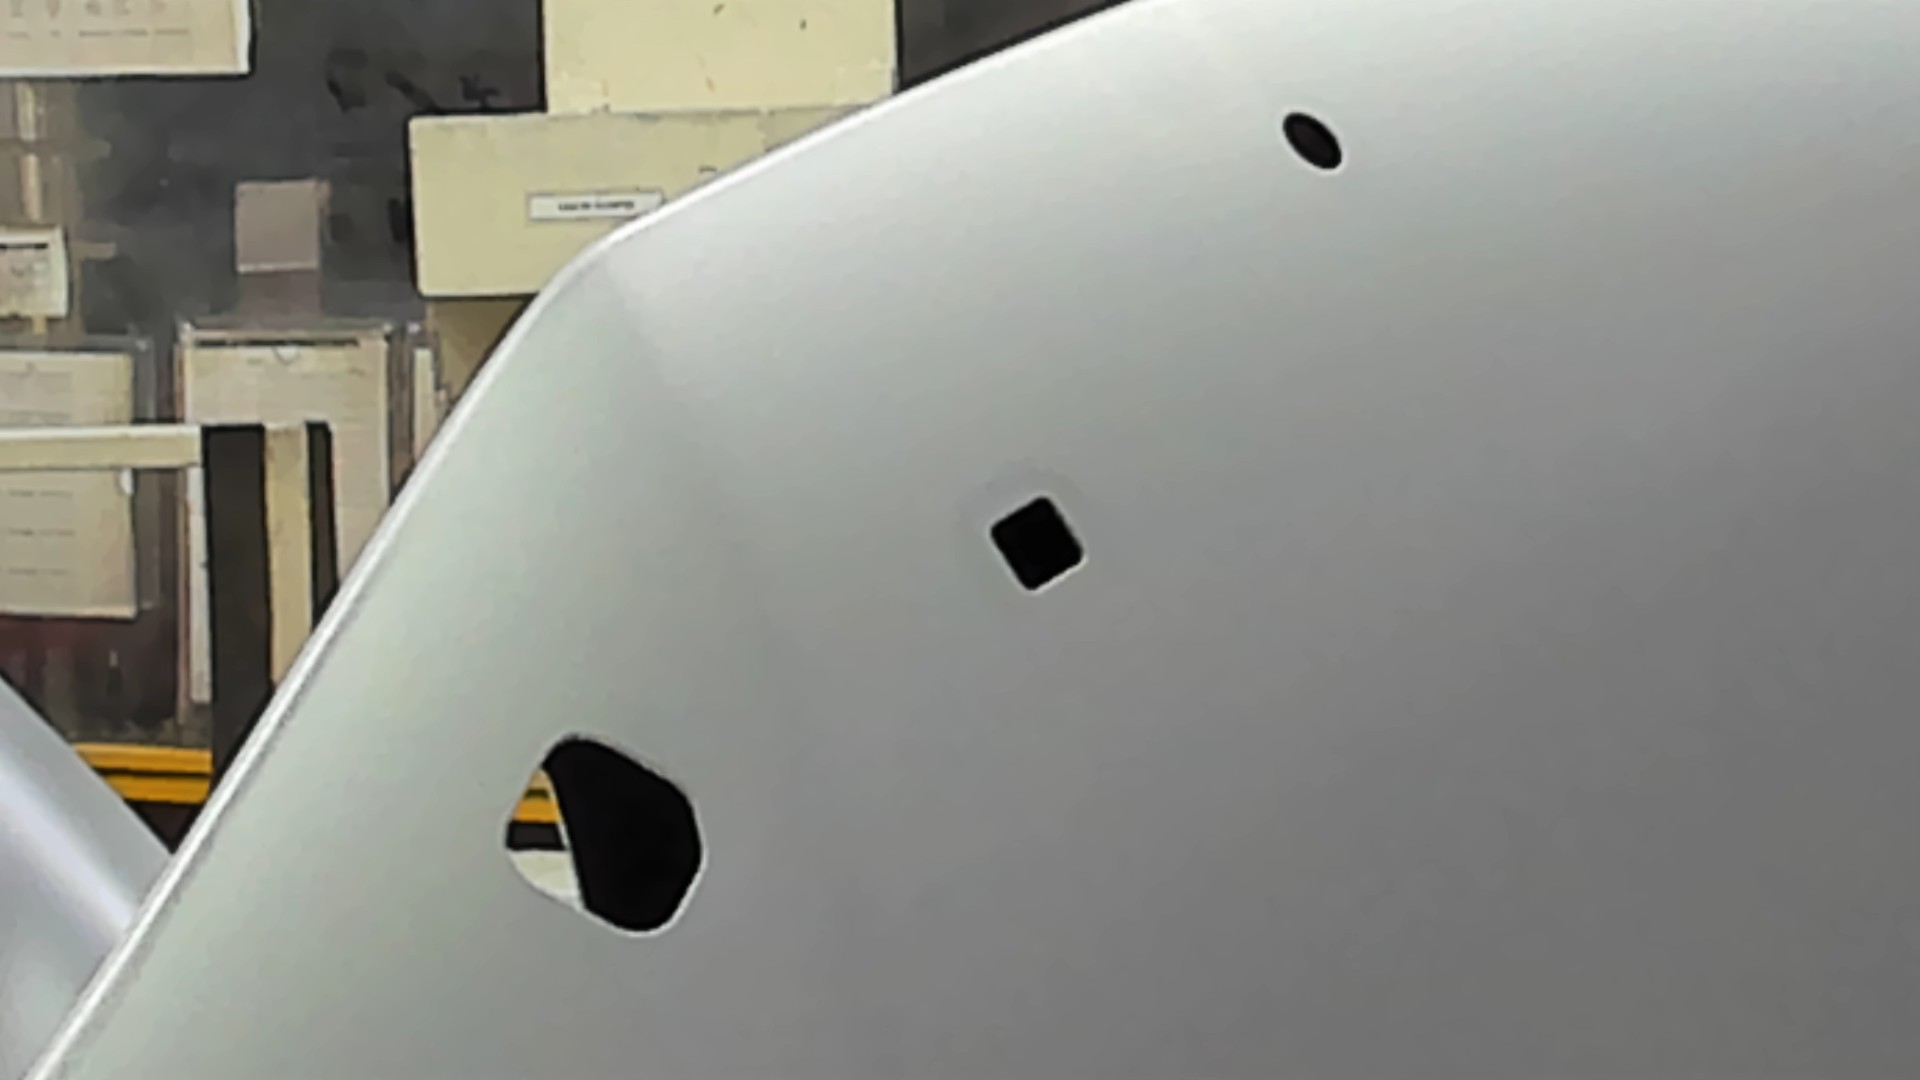capo: (1093, 182, 1920, 1080)
chico: (1276, 104, 1346, 175)
grande: (496, 727, 717, 944)
mediano: (982, 491, 1091, 600)
